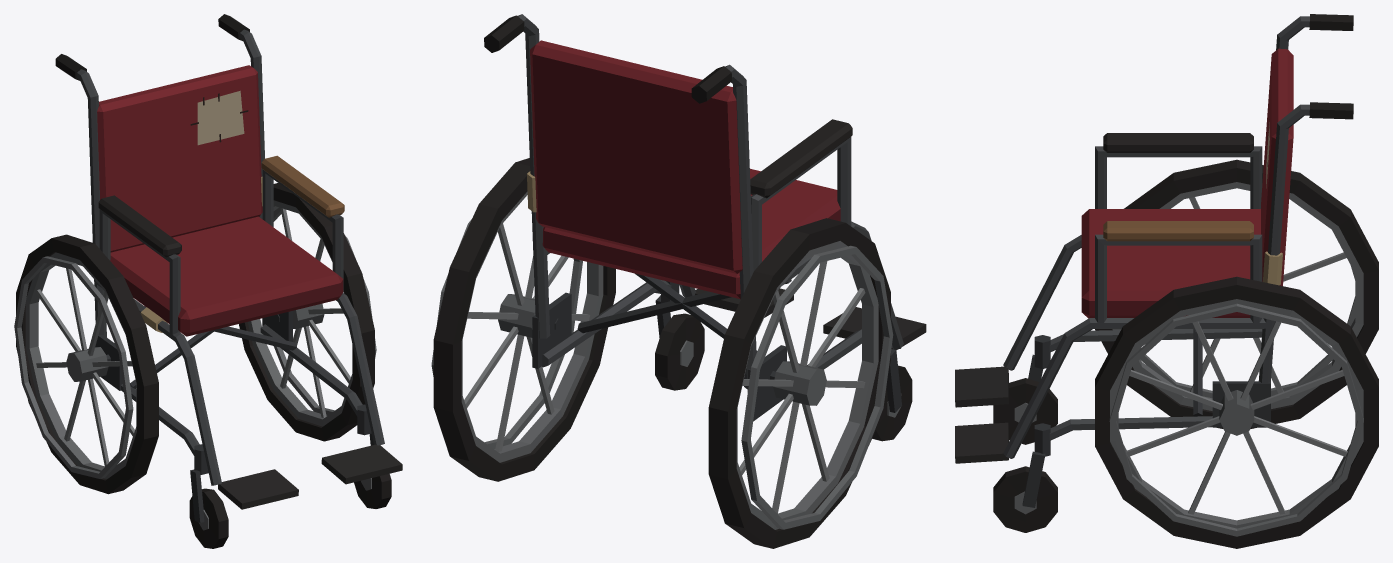
The model's file is tl_veh_wheelchair_v01.glb.
3 renders of one model, left to right at view 1: azimuth 30°, elevation 25°; view 2: azimuth 150°, elevation 25°; view 3: azimuth 270°, elevation 25°, orthographic. The views are drawn at different scales.
Parts seen in each view (by area): view 1: tl_veh_wheelchair_v01, wheel_r, wheel_l, caster_r, caster_l; view 2: tl_veh_wheelchair_v01, wheel_r, wheel_l, caster_l, caster_r; view 3: tl_veh_wheelchair_v01, wheel_l, wheel_r, caster_l, caster_r.
Part boxes in pixels (bbox=[...]): tl_veh_wheelchair_v01: bbox=[55, 14, 402, 522]; wheel_r: bbox=[14, 234, 158, 494]; wheel_l: bbox=[239, 183, 376, 441]; caster_r: bbox=[189, 488, 228, 548]; caster_l: bbox=[354, 474, 391, 508]; tl_veh_wheelchair_v01: bbox=[484, 14, 926, 421]; wheel_r: bbox=[708, 218, 893, 548]; wheel_l: bbox=[431, 158, 615, 481]; caster_l: bbox=[655, 313, 704, 390]; caster_r: bbox=[872, 365, 912, 441]; tl_veh_wheelchair_v01: bbox=[955, 14, 1353, 507]; wheel_l: bbox=[1095, 276, 1378, 548]; wheel_r: bbox=[1095, 159, 1378, 428]; caster_l: bbox=[993, 466, 1057, 532]; caster_r: bbox=[993, 378, 1057, 444].
Size of the model in its own units: 0.654 by 0.973 by 0.8729.
